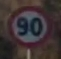limite 90: (6, 4, 53, 49)
